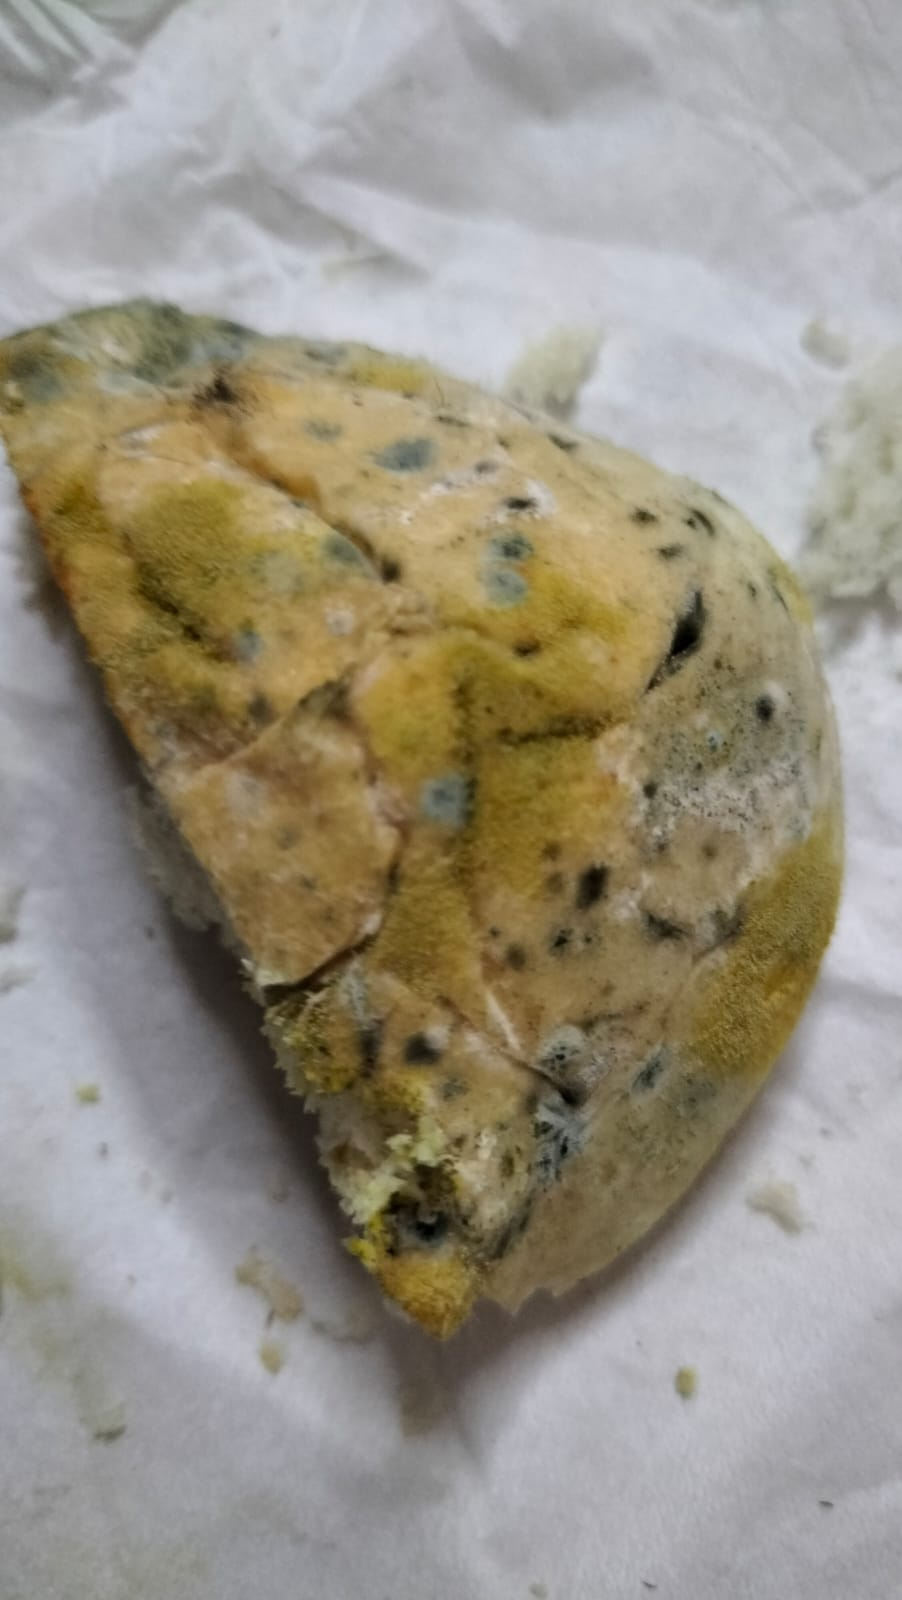mold_bread: (637, 584, 824, 859), (535, 836, 620, 960), (87, 313, 174, 405), (524, 1026, 612, 1088), (525, 1105, 586, 1193), (7, 337, 69, 421), (479, 526, 537, 603), (187, 374, 257, 420), (478, 922, 531, 984), (370, 432, 439, 478), (637, 897, 692, 954), (318, 524, 369, 584), (415, 773, 468, 823), (634, 1034, 673, 1097), (703, 895, 747, 949), (398, 1023, 446, 1070), (225, 614, 265, 660), (682, 504, 723, 540), (499, 487, 541, 515), (325, 608, 359, 638), (305, 415, 341, 442), (631, 501, 659, 530), (652, 542, 683, 562)
